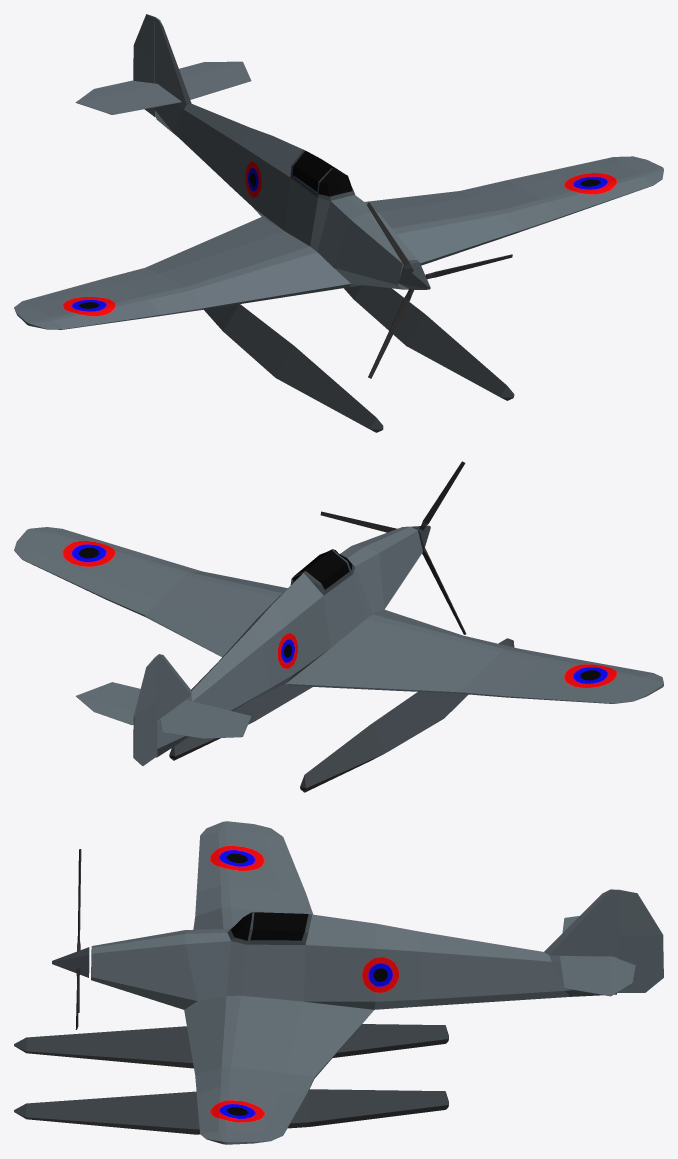
3 renders of one model, top to bottom at view 1: azimuth 30°, elevation 25°; view 2: azimuth 150°, elevation 25°; view 3: azimuth 270°, elevation 25°, orthographic. The views are drawn at different scales.
Parts seen in each view (by area): view 1: Body.004, propeller.004, L_ailerone.004, Rudder.004, R_ailerone.004, Circle.003, R_elevator.004; view 2: Body.004, L_ailerone.004, R_ailerone.004, Rudder.004, propeller.004, Circle.003, R_elevator.004, L_elevator.004; view 3: Body.004, Rudder.004, R_ailerone.004, L_ailerone.004, Circle.003, propeller.004, L_elevator.004.
Part boxes in pixels (x1,y1,x2,y2): Body.004: [14, 17, 663, 432]; propeller.004: [367, 202, 512, 378]; L_ailerone.004: [460, 157, 622, 196]; Rudder.004: [133, 14, 155, 117]; R_ailerone.004: [22, 268, 158, 306]; Circle.003: [292, 150, 344, 191]; R_elevator.004: [76, 80, 157, 102]; Body.004: [14, 526, 663, 792]; L_ailerone.004: [22, 551, 158, 616]; R_ailerone.004: [460, 678, 622, 703]; Rudder.004: [133, 657, 157, 765]; propeller.004: [320, 461, 466, 634]; Circle.003: [292, 550, 349, 589]; R_elevator.004: [160, 718, 242, 738]; L_elevator.004: [76, 696, 134, 724]; Body.004: [14, 821, 618, 1144]; Rudder.004: [617, 889, 663, 992]; R_ailerone.004: [263, 835, 313, 914]; L_ailerone.004: [263, 1073, 314, 1135]; Circle.003: [250, 912, 308, 940]; propeller.004: [52, 849, 89, 1029]; L_elevator.004: [611, 956, 635, 995].
Size of the model in its own units: 1627 by 542 by 1392.
